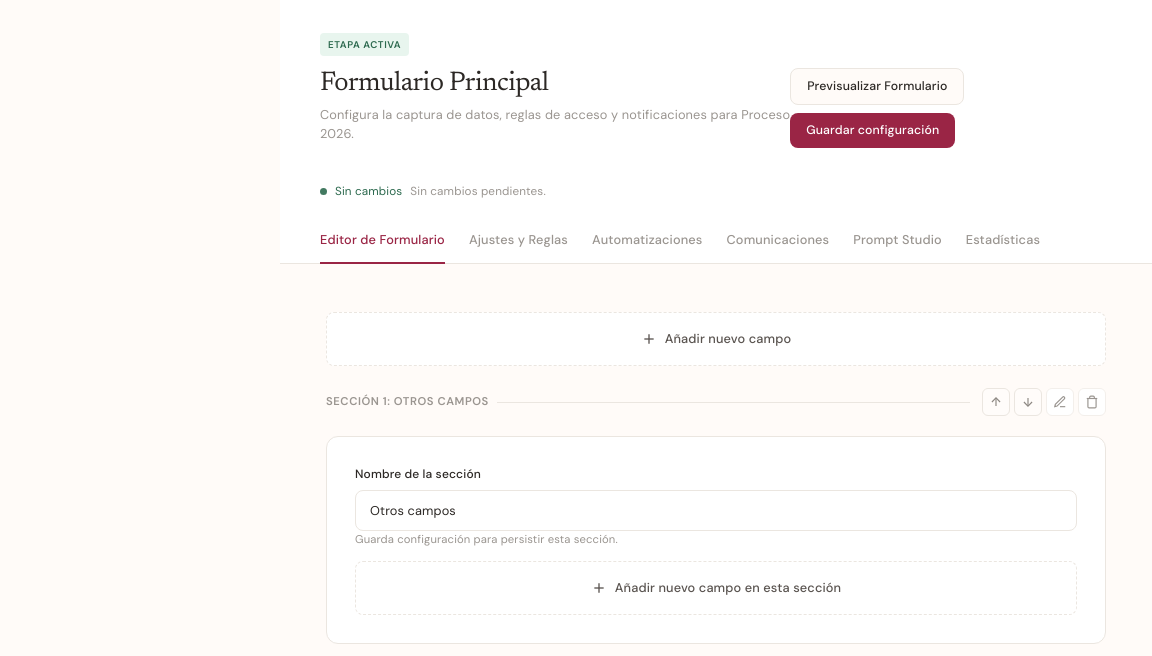
StageConfigEditor › labels the automation tab clearly instead of generic communications
The width and height of the screenshot is (1152, 656).
Expected: the button "Comunicaciones" is shown, 726,218 -> 829,264
Expected: the button "Prompt Studio" is shown, 853,218 -> 942,264
Click the button "Automatizaciones": (647,241) 592,218 -> 702,264
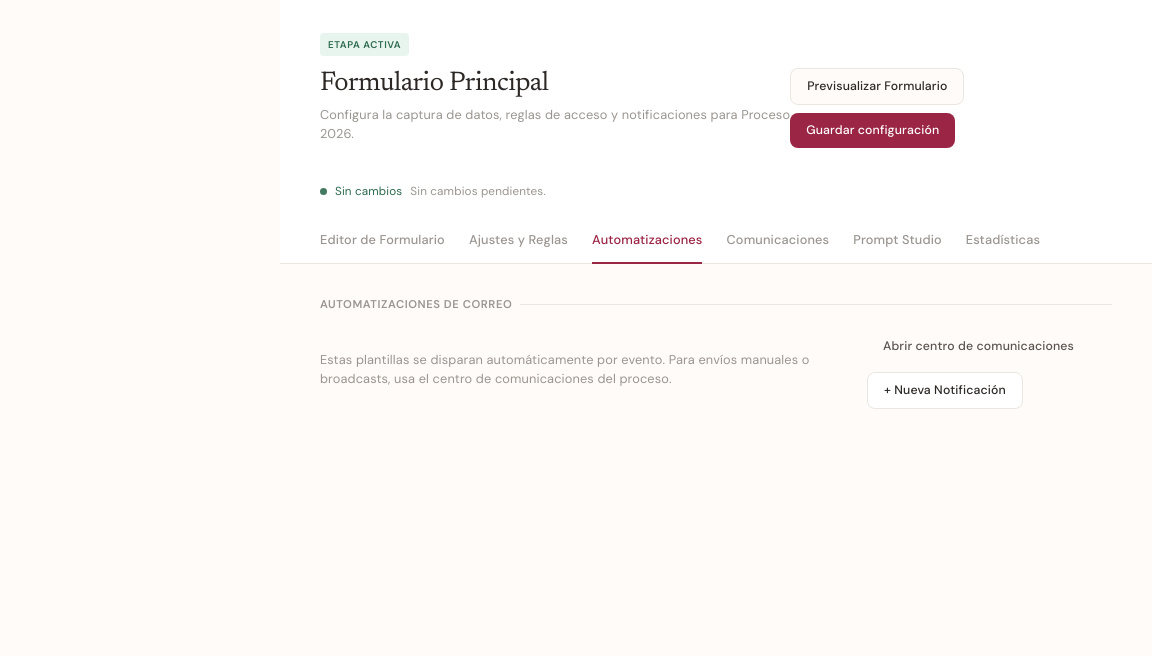
Click the button "+ Nueva Notificación": (945,391) 867,372 -> 1023,409
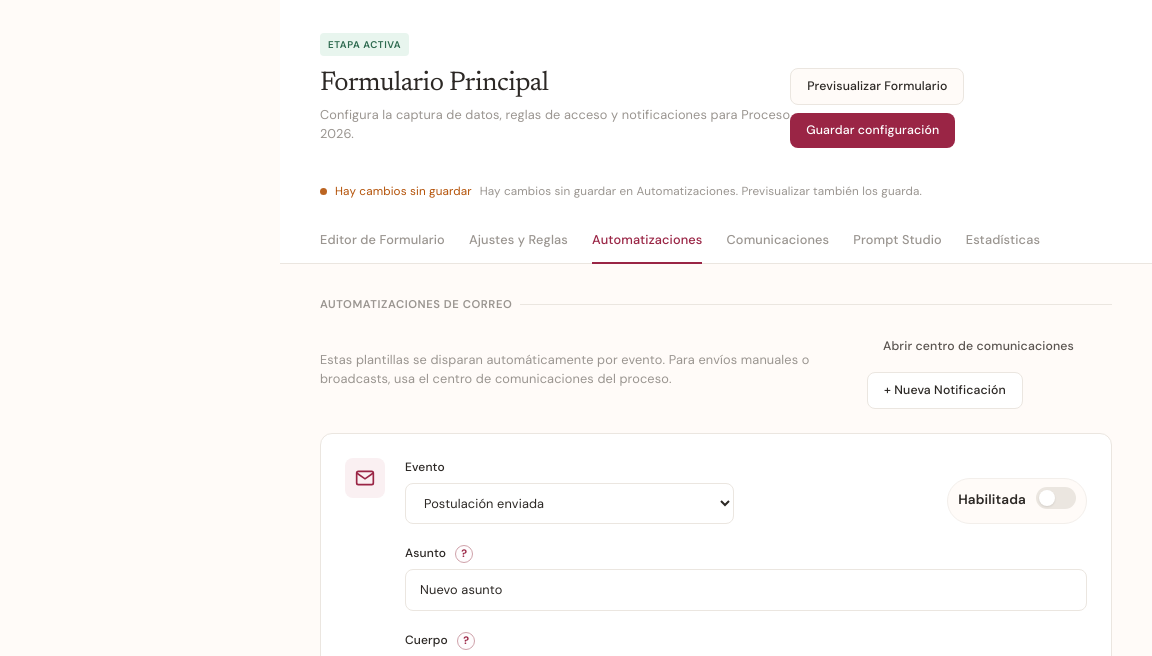
Expected: the button named "Variables disponibles para el asunto" is shown, 455,545 -> 473,563
